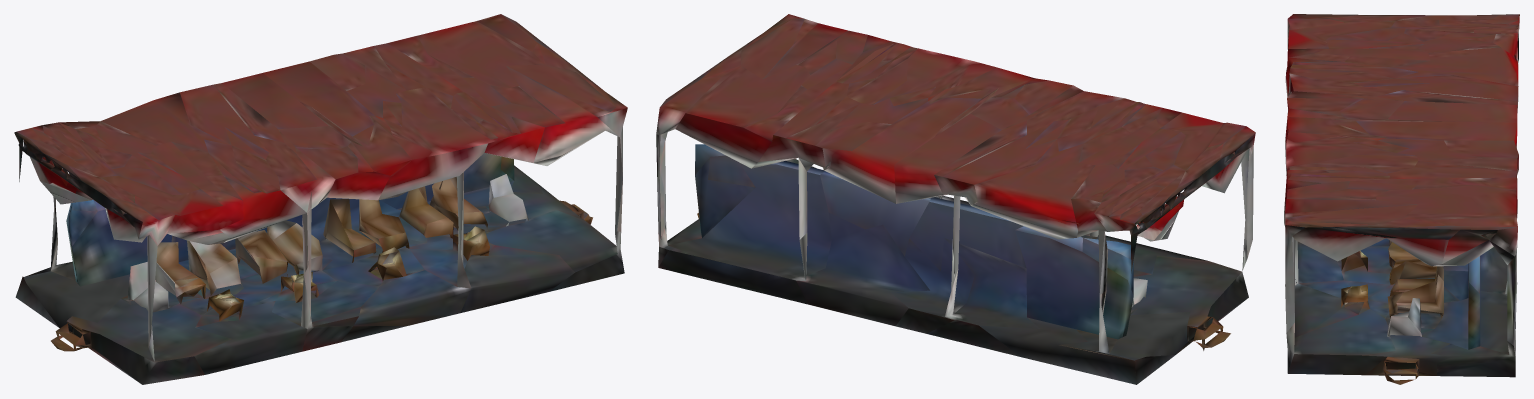
The model's file is tenda_parade_1_lod2.glb.
3 views of the same model, side by side, from view 1: azimuth 30°, elevation 25°; view 2: azimuth 150°, elevation 25°; view 3: azimuth 270°, elevation 25° (orthographic). The views are drawn at different scales.
Parts seen in each view (by area): view 1: tripo_node_337a63dc-1982-4dad-8e5b-e84a0524f6c2; view 2: tripo_node_337a63dc-1982-4dad-8e5b-e84a0524f6c2; view 3: tripo_node_337a63dc-1982-4dad-8e5b-e84a0524f6c2.
Part boxes in pixels (x1,y1,x2,y2): tripo_node_337a63dc-1982-4dad-8e5b-e84a0524f6c2: (14, 14, 627, 384); tripo_node_337a63dc-1982-4dad-8e5b-e84a0524f6c2: (656, 14, 1255, 384); tripo_node_337a63dc-1982-4dad-8e5b-e84a0524f6c2: (1284, 14, 1519, 384).
Bounding box in the file's own units: 0.999 × 0.3038 × 0.4225.
Materials: 1 (1 with a texture image).
